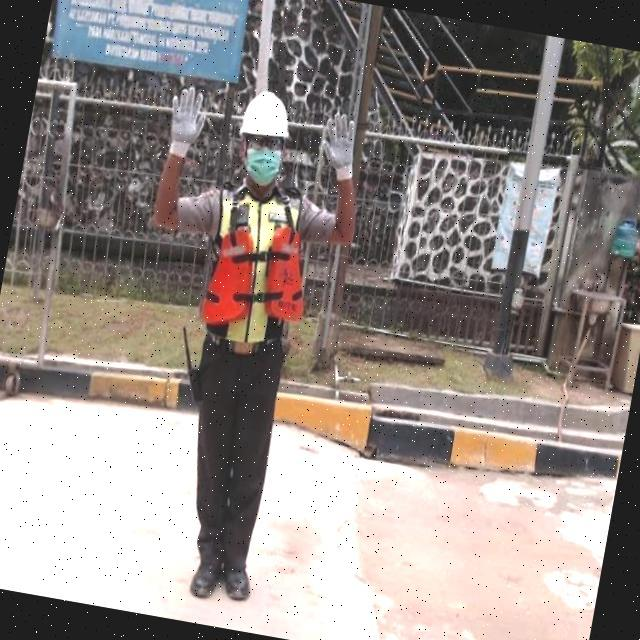goggles_on: (240, 123, 293, 155)
